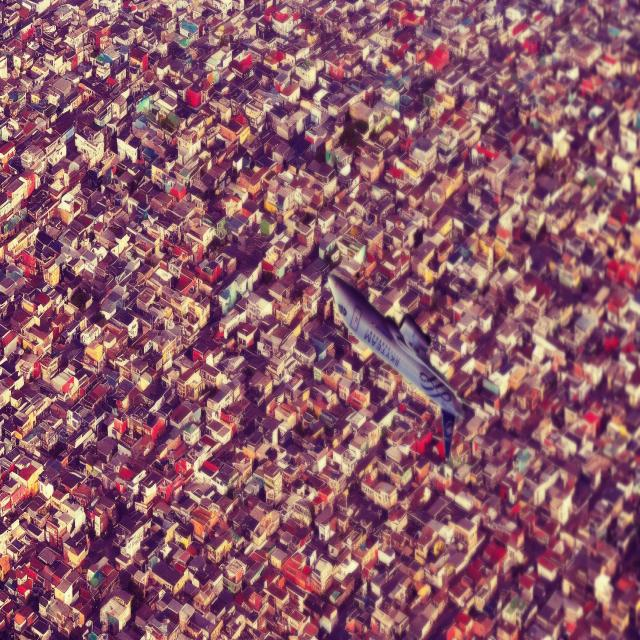airplane: (327, 270, 465, 461)
